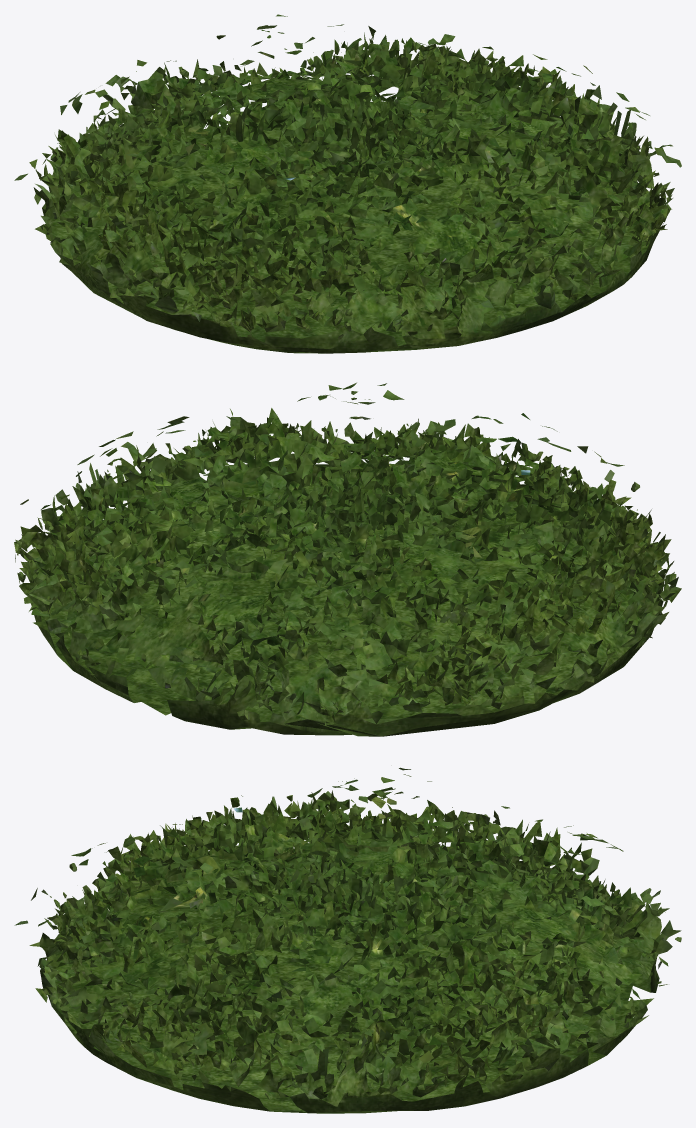
The model's file is meadows_cover_clover_c.glb.
3 views of the same model, one above another, from view 1: azimuth 30°, elevation 25°; view 2: azimuth 150°, elevation 25°; view 3: azimuth 270°, elevation 25° (orthographic). The views are drawn at different scales.
Parts seen in each view (by area): view 1: Mesh_0; view 2: Mesh_0; view 3: Mesh_0.
Part boxes in pixels (x1,y1,x2,y2): Mesh_0: (14, 14, 681, 353); Mesh_0: (14, 382, 681, 736); Mesh_0: (14, 767, 681, 1113).
Size of the model in its own units: 1.73 by 0.3734 by 1.77.
1 material, 1 textured.
